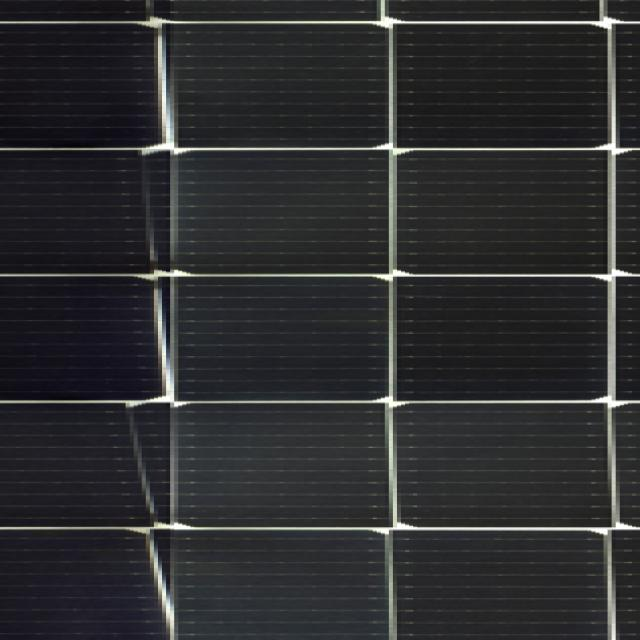MISALIGNMENT: (46, 375, 223, 586), (54, 154, 253, 283)
